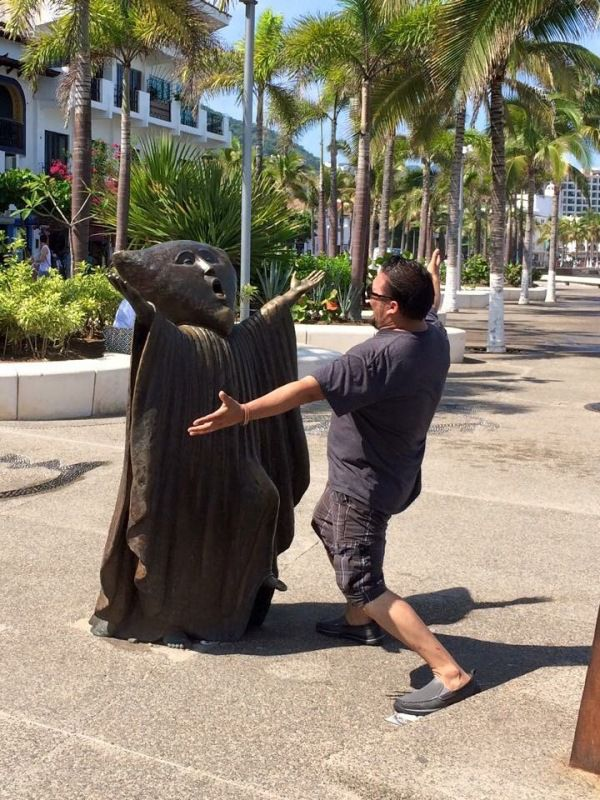person: (184, 249, 481, 719)
person-like: (85, 235, 326, 656)
